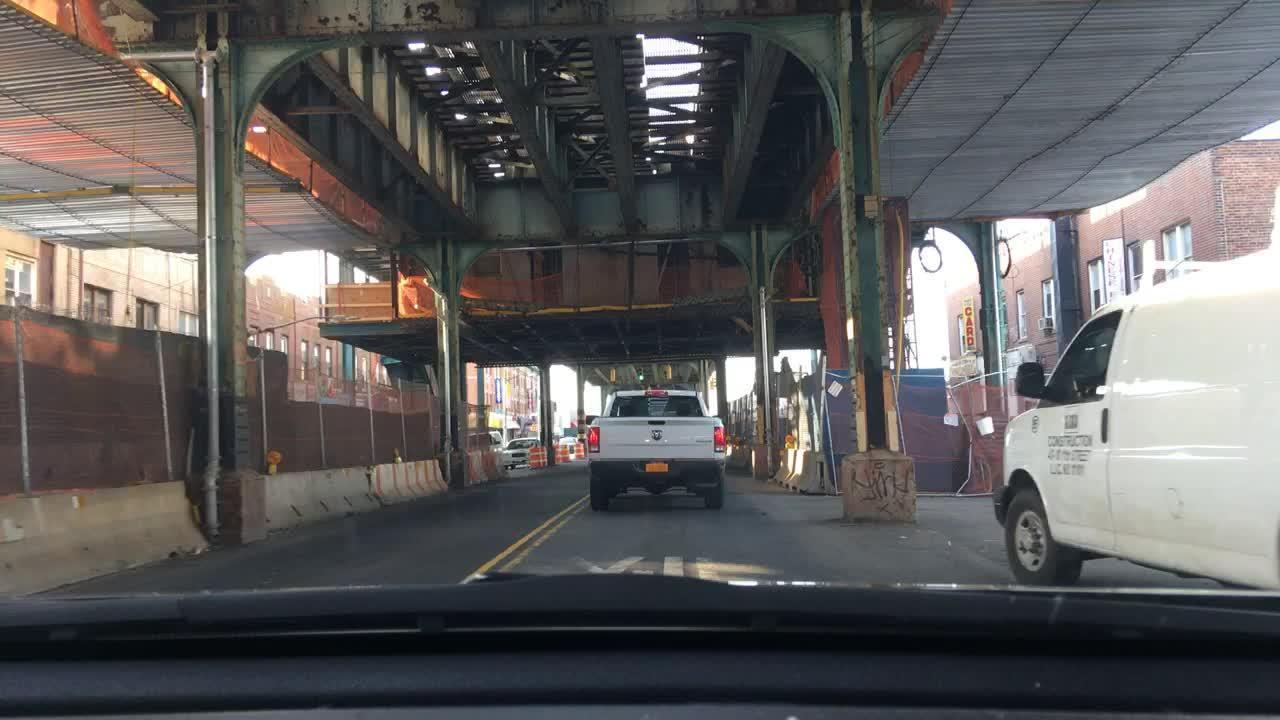ram: (650, 426, 670, 448)
